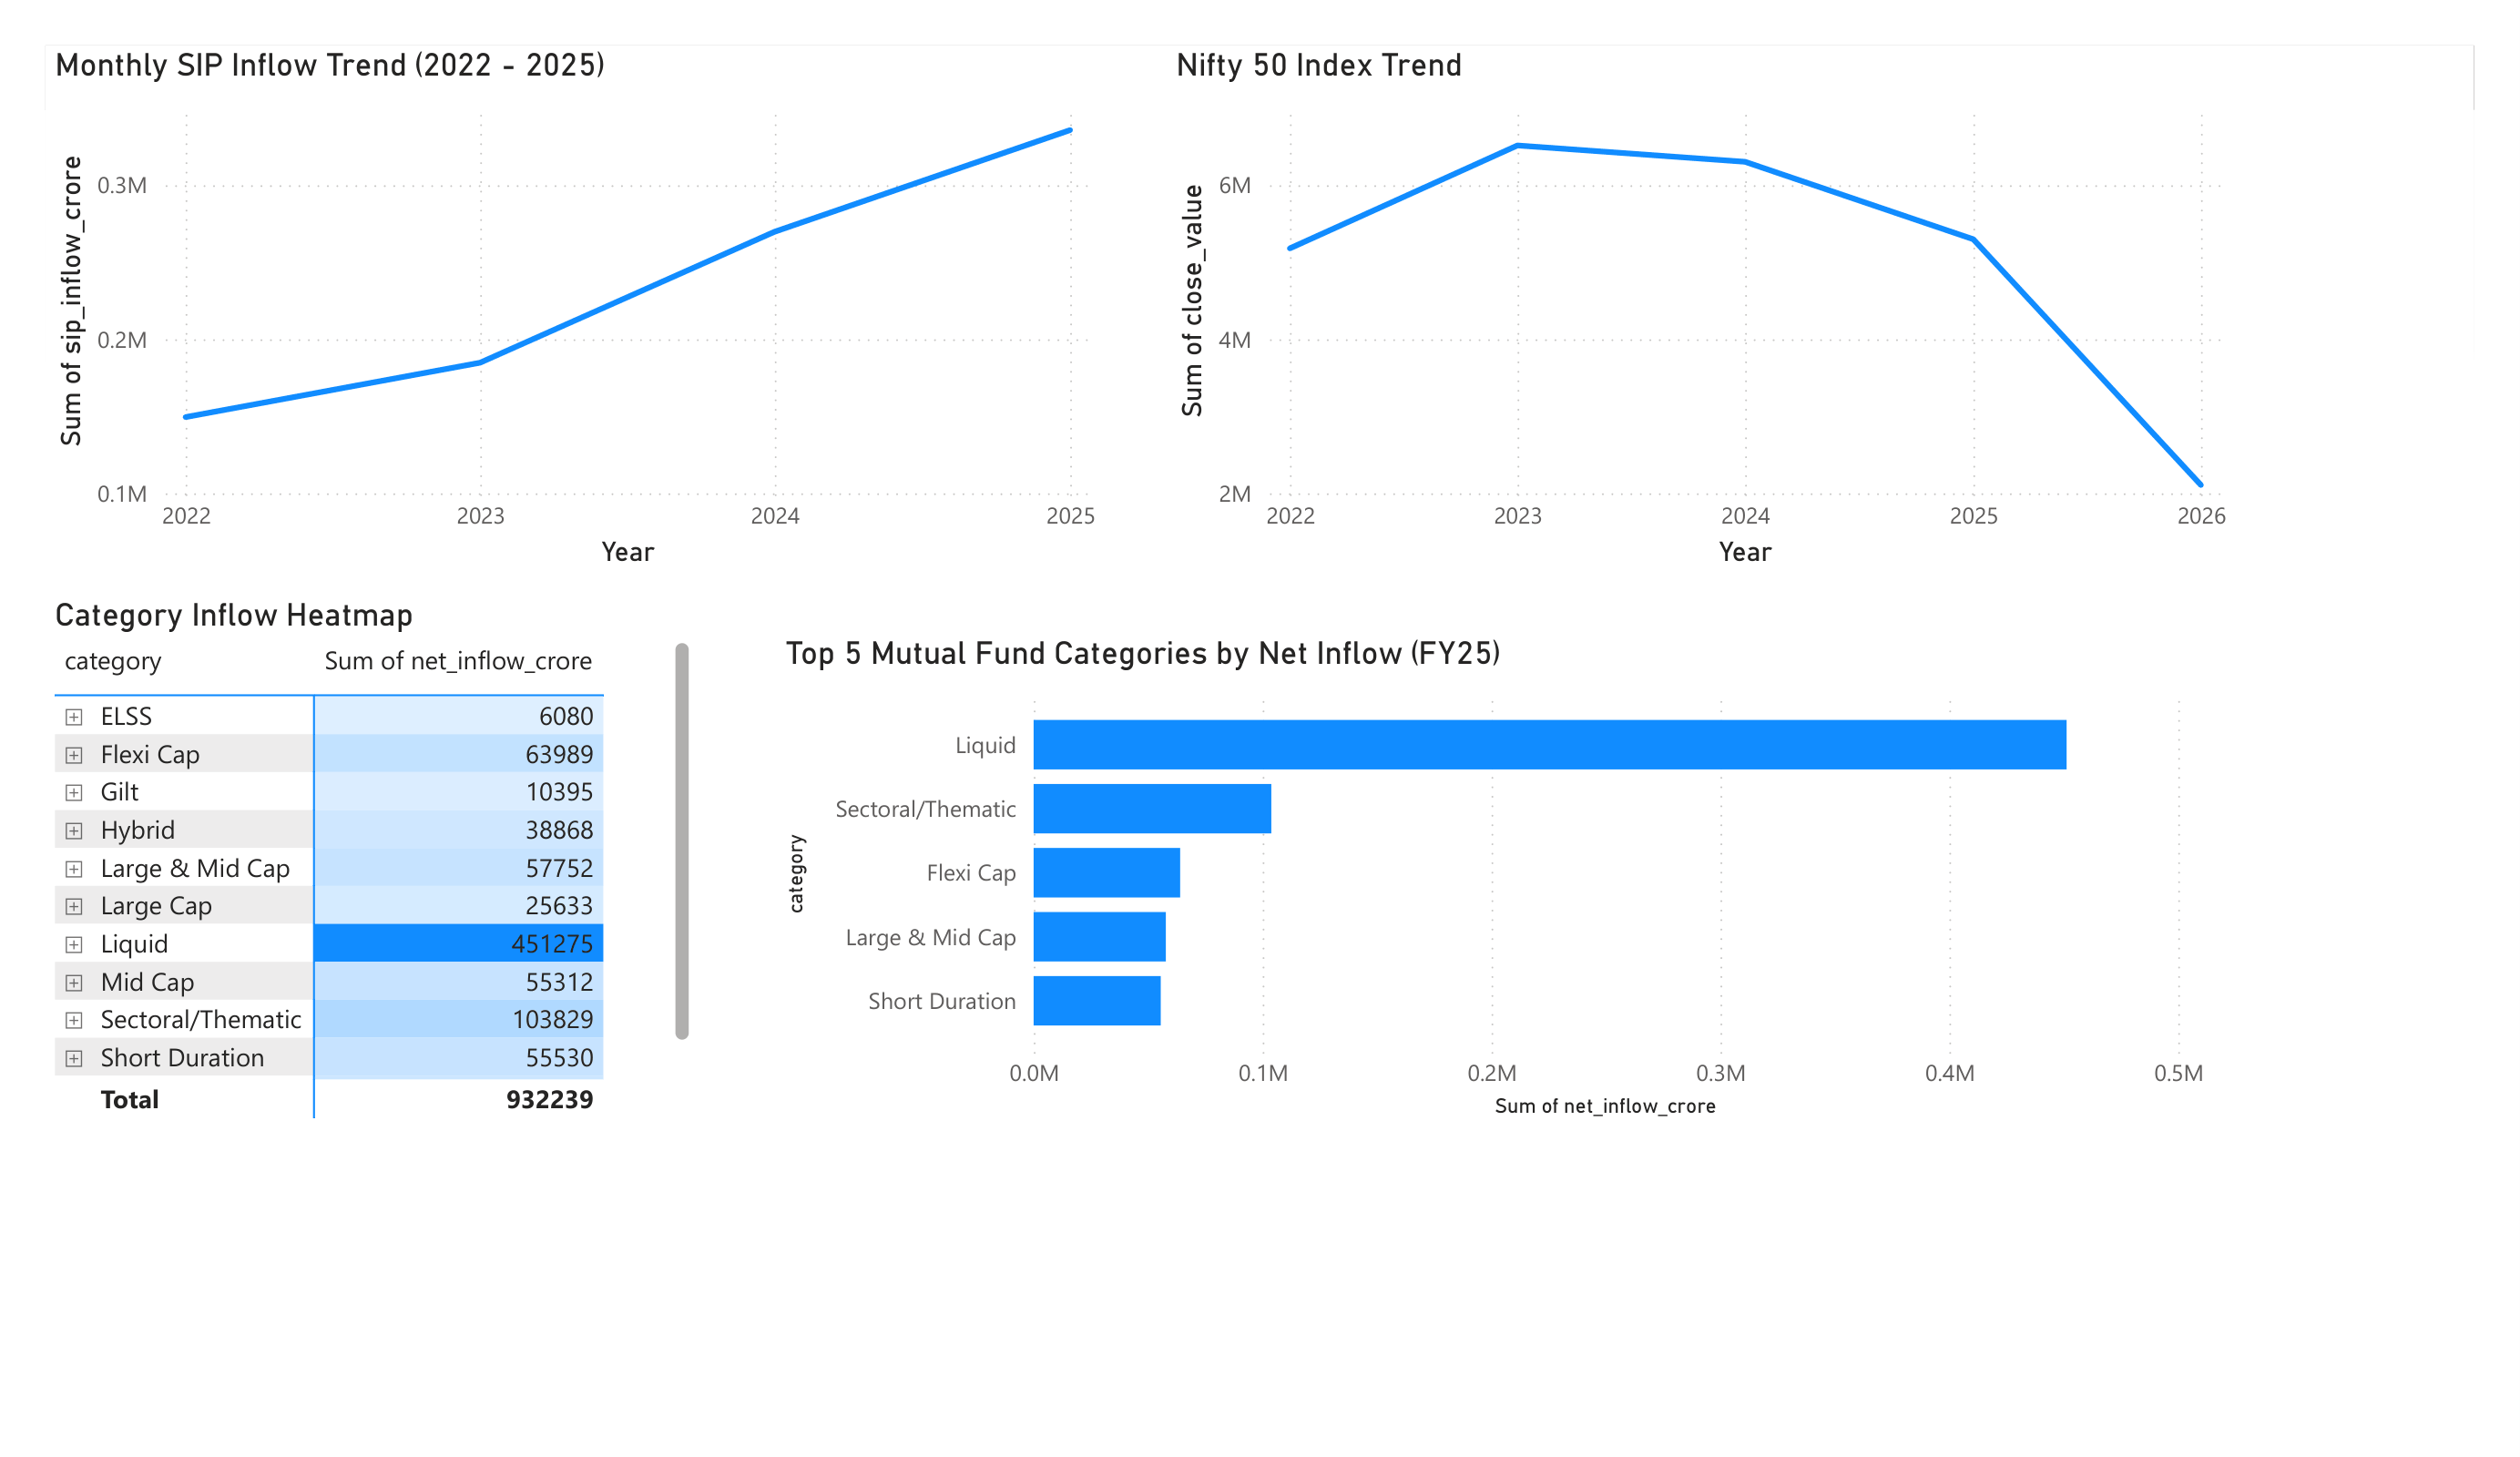

Layout of this report page (visuals, bound fields, positions):
{"tool":"powerbi","page":{"name":"SIP & Market Trends","canvas":[1280,720],"ordinal":3},"visuals":[{"type":"lineChart","title":"Monthly SIP Inflow Trend (2022 - 2025)","fields":{"Category":["04_monthly_sip_inflows.month.Variation.Date Hierarchy.Year","04_monthly_sip_inflows.month.Variation.Date Hierarchy.Quarter","04_monthly_sip_inflows.month.Variation.Date Hierarchy.Month","04_monthly_sip_inflows.month.Variation.Date Hierarchy.Day"],"Y":["Sum(04_monthly_sip_inflows.sip_inflow_crore)"]},"box":[0,0,557.5,280],"z":0},{"type":"lineChart","title":"Nifty 50 Index Trend","fields":{"Category":["10_benchmark_indices.date.Variation.Date Hierarchy.Year","10_benchmark_indices.date.Variation.Date Hierarchy.Quarter","10_benchmark_indices.date.Variation.Date Hierarchy.Month","10_benchmark_indices.date.Variation.Date Hierarchy.Day"],"Y":["Sum(10_benchmark_indices.close_value)"]},"box":[591.2,0,562.5,280],"z":1},{"type":"pivotTable","title":"Category Inflow Heatmap","fields":{"Rows":["05_category_inflows.category","05_category_inflows.month.Variation.Date Hierarchy.Year","05_category_inflows.month.Variation.Date Hierarchy.Quarter","05_category_inflows.month.Variation.Date Hierarchy.Month","05_category_inflows.month.Variation.Date Hierarchy.Day"],"Values":["Sum(05_category_inflows.net_inflow_crore)"]},"box":[0,290,345,280],"z":2},{"type":"clusteredBarChart","title":"Top 5 Mutual Fund Categories by Net Inflow (FY25)","fields":{"Category":["05_category_inflows.category"],"Y":["Sum(05_category_inflows.net_inflow_crore)"]},"box":[385,310,757.5,260],"z":3}]}

Visuals, with their boxes on the page's 1280x720 design canvas (x1, y1, x2, y2). These are canvas units, not pixel positions in the 2520x1457 screenshot, which may show the page scaled, cropped or inside an application window:
"Monthly SIP Inflow Trend (2022 - 2025)" lineChart: region(0, 0, 558, 280)
"Nifty 50 Index Trend" lineChart: region(591, 0, 1154, 280)
"Category Inflow Heatmap" pivotTable: region(0, 290, 345, 570)
"Top 5 Mutual Fund Categories by Net Inflow (FY25)" clusteredBarChart: region(385, 310, 1142, 570)
